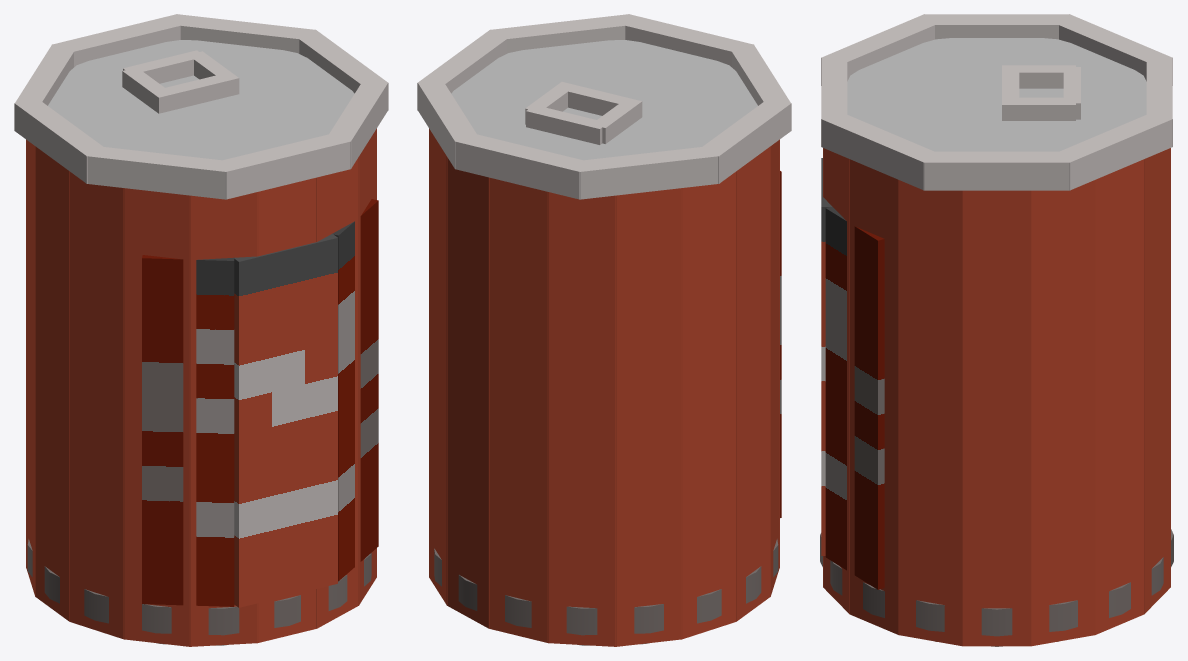
File: CMU3DCMDrinkCanColaDrinksExtraCloud.glb
3 views of the same model, side by side, from view 1: azimuth 30°, elevation 25°; view 2: azimuth 150°, elevation 25°; view 3: azimuth 270°, elevation 25° (orthographic).
Visible parts, largest first — view 1: source front label tangent 1, source front label tangent 0, hollow printed aluminium body 09, unbroken recessed aluminium lid, hollow printed aluminium body 10, hollow printed aluminium body 08, source front label tangent 2, hollow printed aluminium body 11, hollow printed aluminium body 12, hollow printed aluminium body 13, raised upper seam 06, raised upper seam 07 (+13 smaller); view 2: hollow printed aluminium body 05, hollow printed aluminium body 06, hollow printed aluminium body 04, hollow printed aluminium body 07, unbroken recessed aluminium lid, hollow printed aluminium body 03, hollow printed aluminium body 08, hollow printed aluminium body 02, raised upper seam 04, raised upper seam 03, rolled bottom seam, hollow printed aluminium body 09 (+11 smaller); view 3: hollow printed aluminium body 00, hollow printed aluminium body 01, hollow printed aluminium body 15, unbroken recessed aluminium lid, hollow printed aluminium body 02, source front label tangent 2, hollow printed aluminium body 14, hollow printed aluminium body 03, raised upper seam 01, rolled bottom seam, raised upper seam 02, raised upper seam 08 (+11 smaller).
Boxes of the visible parts, <box> form: source front label tangent 1: <box>234,234,337,607</box>; source front label tangent 0: <box>142,255,234,606</box>; hollow printed aluminium body 09: <box>69,171,124,639</box>; unbroken recessed aluminium lid: <box>48,40,354,160</box>; hollow printed aluminium body 10: <box>123,188,190,646</box>; hollow printed aluminium body 08: <box>35,146,69,621</box>; source front label tangent 2: <box>332,199,378,581</box>; hollow printed aluminium body 11: <box>189,192,258,646</box>; hollow printed aluminium body 12: <box>257,177,317,643</box>; hollow printed aluminium body 13: <box>316,156,359,628</box>; raised upper seam 06: <box>86,145,232,199</box>; raised upper seam 07: <box>213,132,351,199</box>; hollow printed aluminium body 05: <box>547,192,616,646</box>; hollow printed aluminium body 06: <box>615,188,682,646</box>; hollow printed aluminium body 04: <box>488,177,548,643</box>; hollow printed aluminium body 07: <box>681,171,736,639</box>; unbroken recessed aluminium lid: <box>451,40,757,160</box>; hollow printed aluminium body 03: <box>446,156,489,628</box>; hollow printed aluminium body 08: <box>736,146,770,621</box>; hollow printed aluminium body 02: <box>429,128,447,605</box>; raised upper seam 04: <box>578,145,719,199</box>; raised upper seam 03: <box>454,132,592,199</box>; rolled bottom seam: <box>434,539,778,635</box>; hollow printed aluminium body 09: <box>770,140,779,596</box>; hollow printed aluminium body 00: <box>962,190,1031,646</box>; hollow printed aluminium body 01: <box>1031,179,1095,646</box>; hollow printed aluminium body 15: <box>898,179,962,646</box>; unbroken recessed aluminium lid: <box>847,38,1146,151</box>; hollow printed aluminium body 02: <box>1095,159,1144,634</box>; source front label tangent 2: <box>825,207,884,589</box>; hollow printed aluminium body 14: <box>849,159,898,634</box>; hollow printed aluminium body 03: <box>1144,148,1170,614</box>; raised upper seam 01: <box>923,151,1070,190</box>; rolled bottom seam: <box>820,529,1173,636</box>; raised upper seam 02: <box>1060,111,1172,190</box>; raised upper seam 08: <box>821,112,933,190</box>.
Size of what is drawn, in the model's own units: 0.287 by 0.4425 by 0.287.
Materials: 8 (3 with a texture image).
